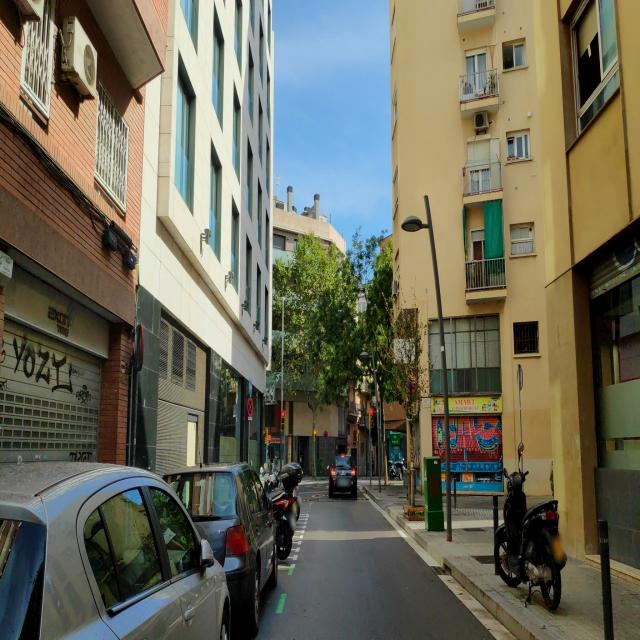bike: (493, 441, 568, 613), (259, 471, 295, 558), (387, 457, 405, 480)
car: (0, 462, 232, 639), (160, 461, 279, 637), (328, 454, 358, 499), (280, 461, 304, 482)
